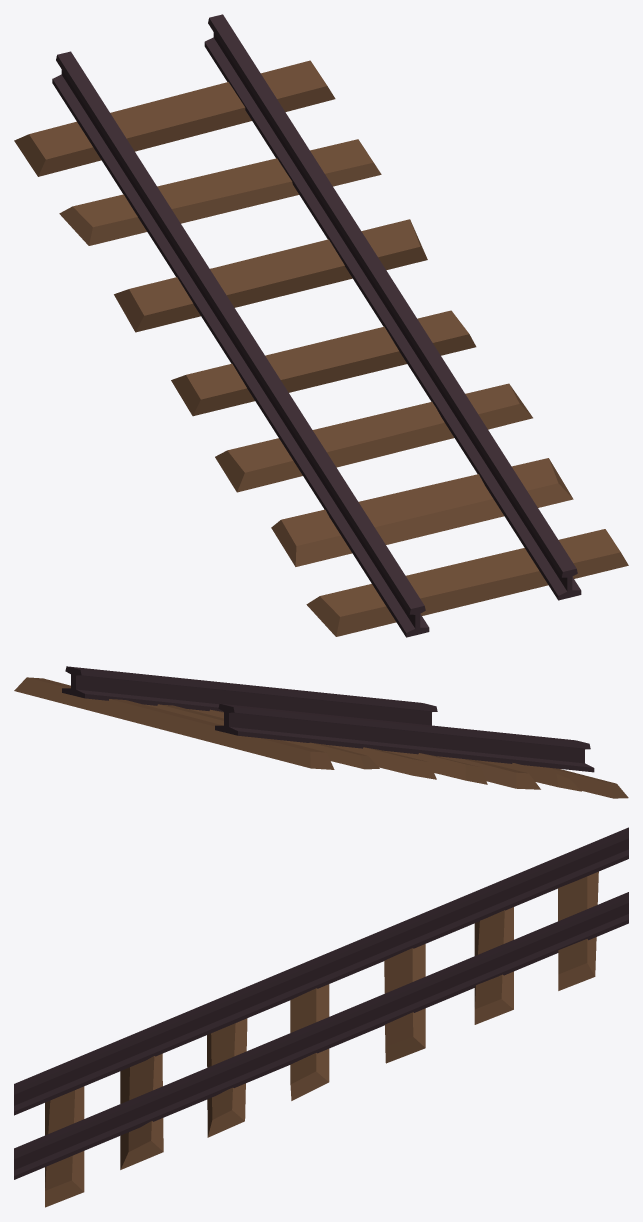
The model's file is railway_up_02_style_01.fbx.
The picture shows the model from 3 angles, top to bottom: view 1: azimuth 30°, elevation 25°; view 2: azimuth 150°, elevation 25°; view 3: azimuth 270°, elevation 25°; orthographic projection. The views are drawn at different scales.
Visible parts, largest first — view 1: up_02; view 2: up_02; view 3: up_02.
Part boxes in pixels (bbox=[...]): up_02: bbox=[14, 14, 628, 637]; up_02: bbox=[14, 666, 628, 798]; up_02: bbox=[14, 827, 628, 1207].
Bounding box in the file's own units: 161 × 164 × 326.
